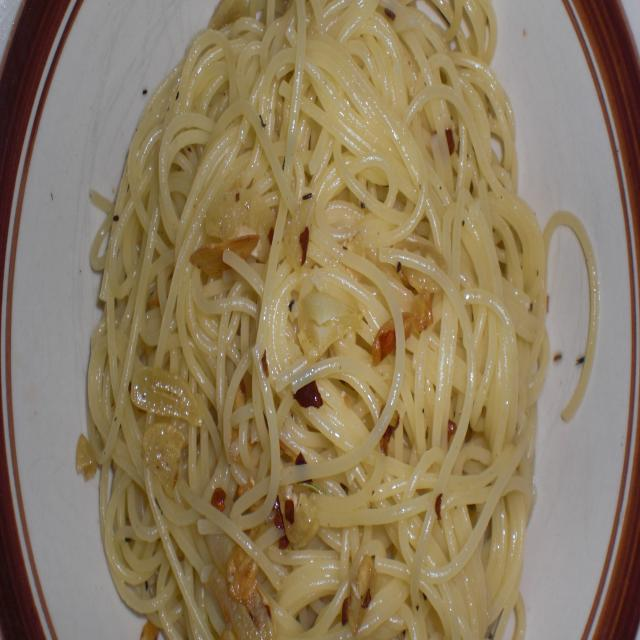Oil pasta: (67, 4, 612, 640)
